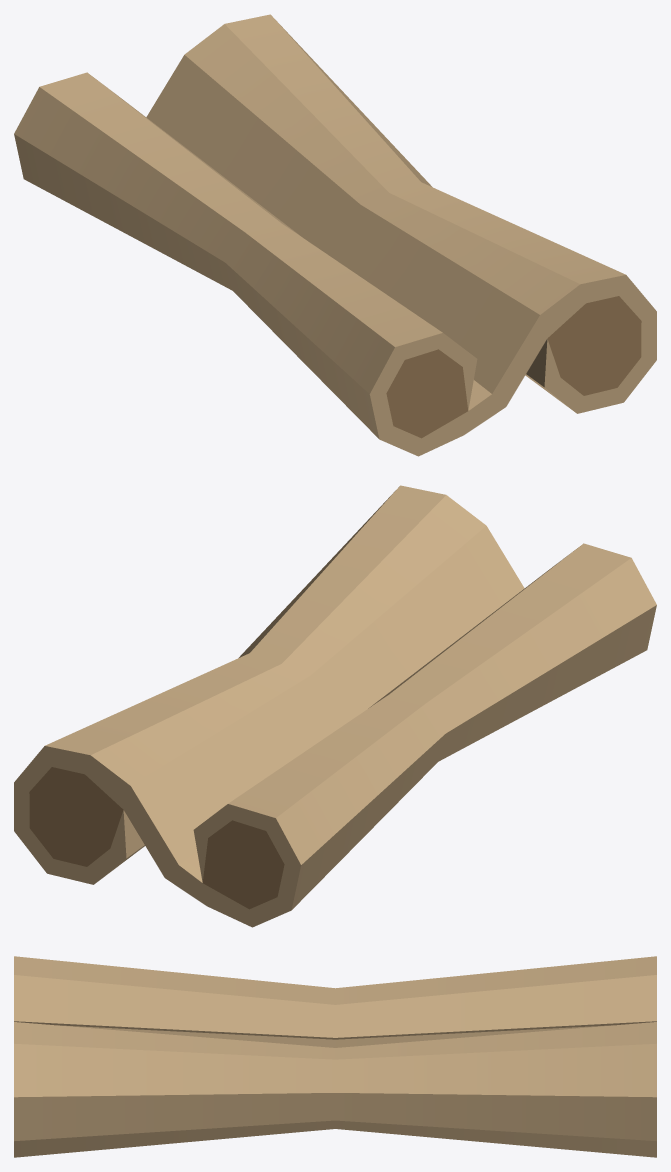
Rendered from SM_Item_Map_01.glb.
3 renders of one model, top to bottom at view 1: azimuth 30°, elevation 25°; view 2: azimuth 150°, elevation 25°; view 3: azimuth 270°, elevation 25°, orthographic. The views are drawn at different scales.
Parts seen in each view (by area): view 1: node_id4; view 2: node_id4; view 3: node_id4.
Boxes of the visible parts, box(x1,y1,x2,y2) form: node_id4: box(14, 14, 656, 456); node_id4: box(14, 485, 656, 927); node_id4: box(14, 956, 656, 1157).
Bounding box in the file's own units: 0.512 × 0.2262 × 1.1.
Materials: 1 (1 with a texture image).
